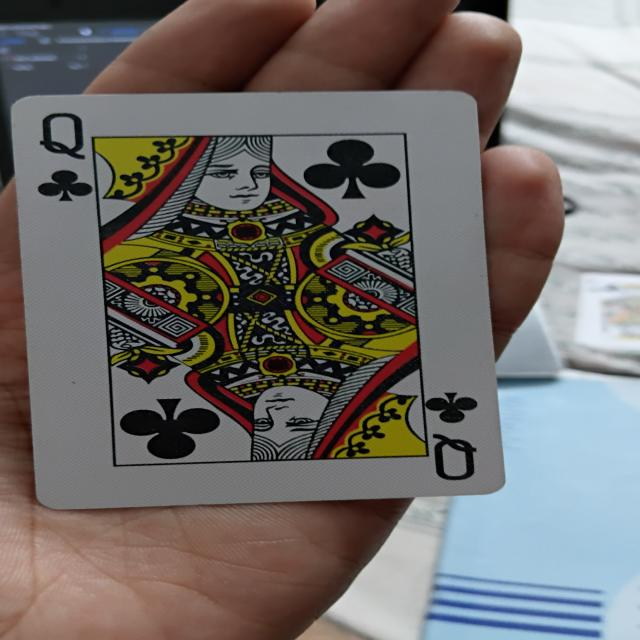QC: (11, 96, 499, 497)
